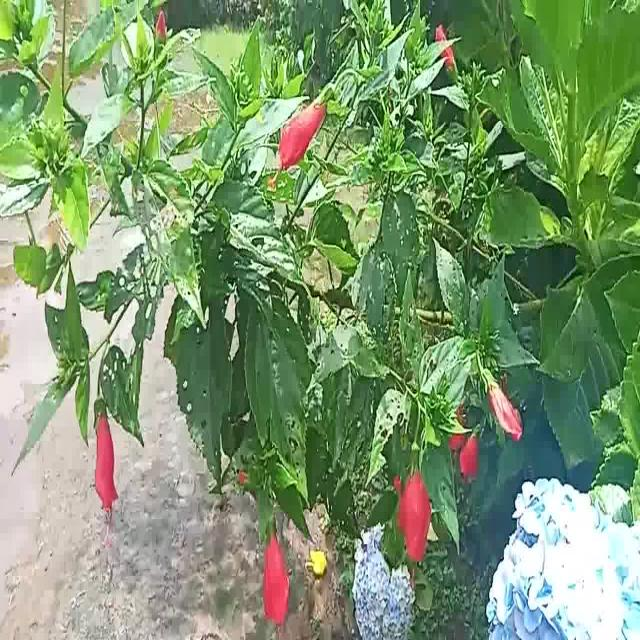Flower: (487, 474, 640, 640), (351, 529, 421, 635), (273, 71, 335, 181), (477, 366, 531, 448), (400, 458, 437, 563), (93, 391, 118, 524), (261, 521, 293, 623)
